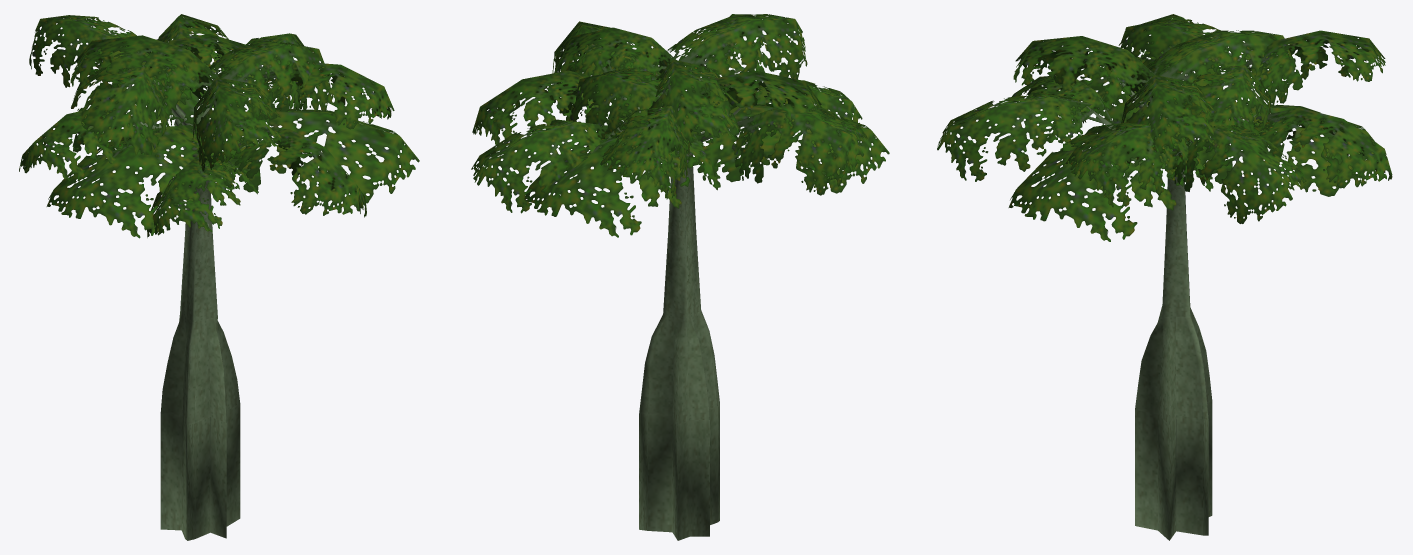
File: kapok_tree_2_4.dae
3 views of the same model, side by side, from view 1: azimuth 30°, elevation 25°; view 2: azimuth 150°, elevation 25°; view 3: azimuth 270°, elevation 25° (orthographic).
Parts seen in each view (by area): view 1: Plane.041; view 2: Plane.041; view 3: Plane.041.
Boxes of the visible parts, left/top/right/bottom form: Plane.041: left=19, top=14, right=419, bottom=540; Plane.041: left=471, top=14, right=889, bottom=540; Plane.041: left=937, top=14, right=1392, bottom=540.
Bounding box in the file's own units: 0.8146 × 0.9172 × 1.02.
1 material, 1 textured.
